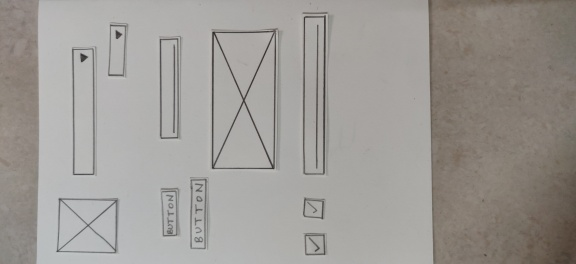button: (187, 175, 209, 251), (158, 186, 180, 238)
checkbox: (301, 196, 326, 221), (302, 231, 327, 256)
dropdown: (69, 45, 97, 177), (106, 22, 129, 78)
img: (208, 28, 279, 173), (55, 194, 121, 255)
text: (301, 13, 328, 178), (157, 35, 182, 140)
